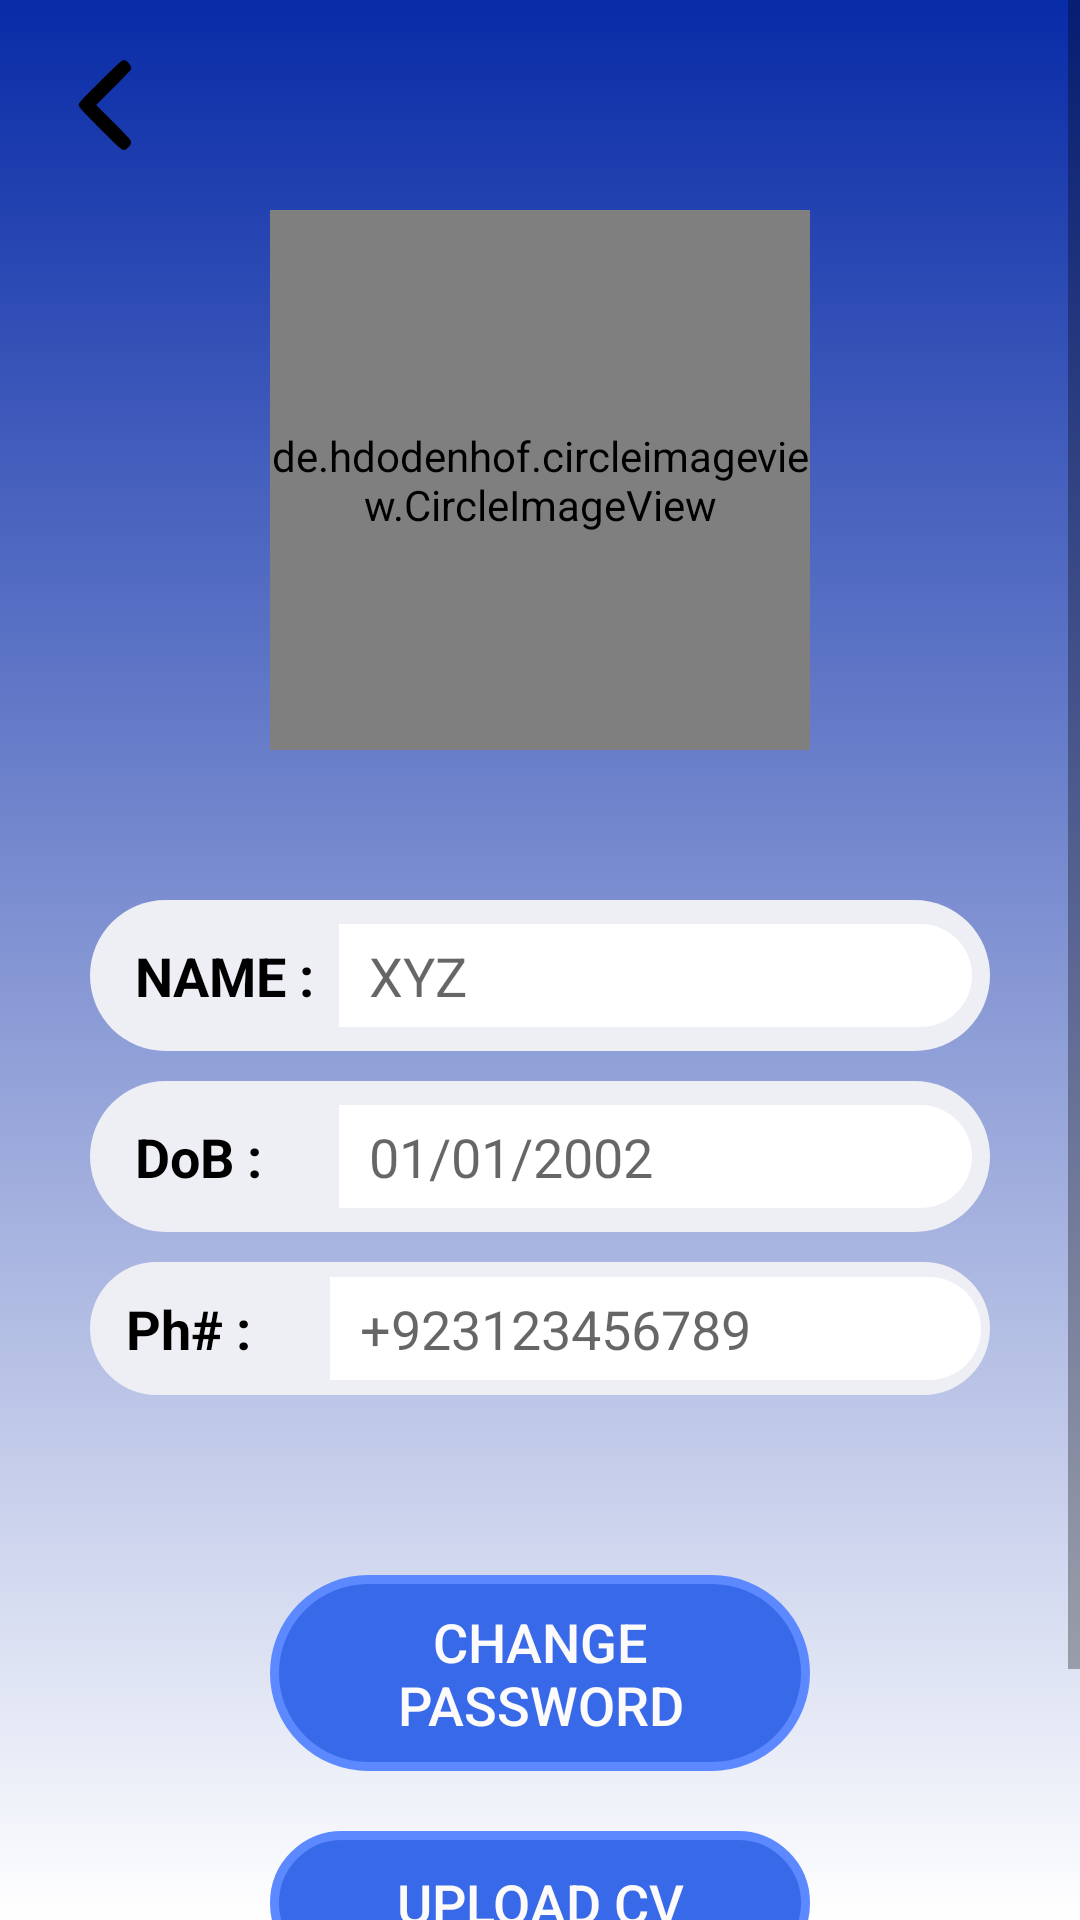

Screen size 1080 x 1920. Icon name, then its center in pixels as point (x, y):
back: point (104, 105)
